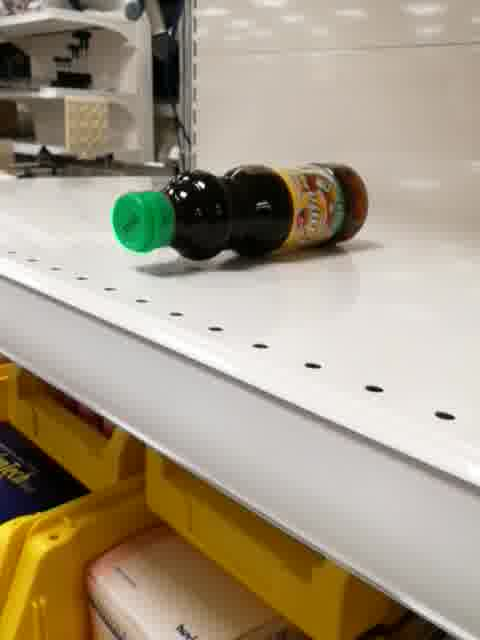cookingoil: (108, 160, 368, 263)
